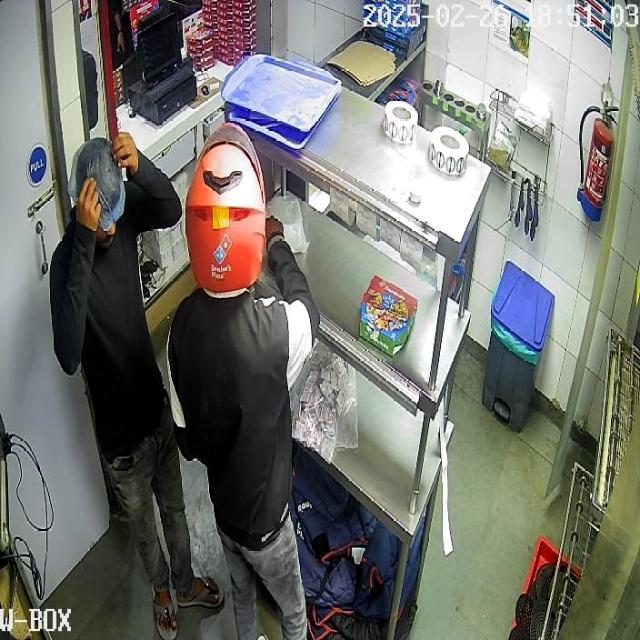helmet: (185, 122, 265, 293)
no_helmet: (68, 137, 123, 231)
